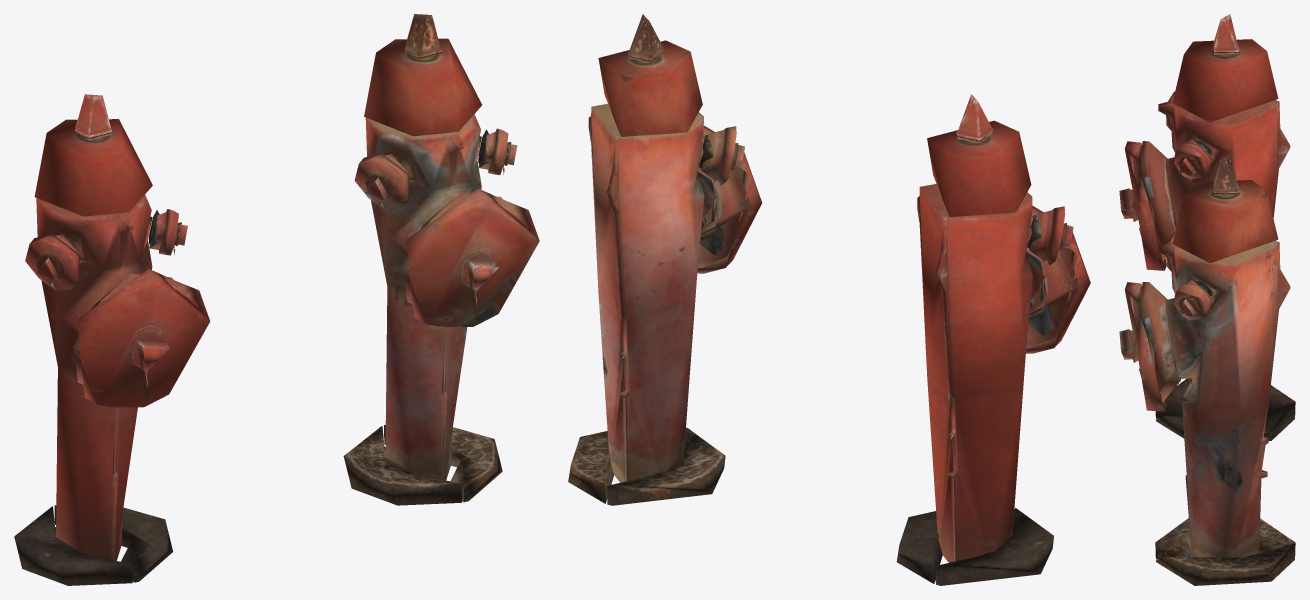
Rendered from fire_hydrant.gltf.
3 views of the same model, side by side, from view 1: azimuth 30°, elevation 25°; view 2: azimuth 150°, elevation 25°; view 3: azimuth 270°, elevation 25° (orthographic). The views are drawn at different scales.
Visible parts, largest first — view 1: fire_hydrant, fire_hydrant_aged, fire_hydrant_cap_01, fire_hydrant_cap_01_aged, fire_hydrant_cap_03, fire_hydrant_cap_03_aged, fire_hydrant_cap_02, fire_hydrant_cap_02_aged; view 2: fire_hydrant, fire_hydrant_aged, fire_hydrant_cap_01, fire_hydrant_cap_01_aged, fire_hydrant_cap_03_aged, fire_hydrant_cap_03; view 3: fire_hydrant_aged, fire_hydrant, fire_hydrant_cap_01_aged, fire_hydrant_cap_01, fire_hydrant_cap_02_aged, fire_hydrant_cap_02.
Boxes of the visible parts, bbox=[...] form: fire_hydrant: bbox=[14, 94, 173, 585]; fire_hydrant_aged: bbox=[343, 14, 502, 505]; fire_hydrant_cap_01: bbox=[77, 269, 210, 407]; fire_hydrant_cap_01_aged: bbox=[406, 188, 539, 326]; fire_hydrant_cap_03: bbox=[25, 234, 79, 290]; fire_hydrant_cap_03_aged: bbox=[354, 153, 409, 210]; fire_hydrant_cap_02: bbox=[159, 209, 187, 255]; fire_hydrant_cap_02_aged: bbox=[488, 128, 517, 174]; fire_hydrant: bbox=[896, 94, 1079, 585]; fire_hydrant_aged: bbox=[568, 14, 751, 505]; fire_hydrant_cap_01: bbox=[1026, 206, 1090, 353]; fire_hydrant_cap_01_aged: bbox=[697, 125, 761, 273]; fire_hydrant_cap_03_aged: bbox=[714, 126, 744, 185]; fire_hydrant_cap_03: bbox=[1042, 206, 1073, 265]; fire_hydrant_aged: bbox=[1141, 155, 1295, 585]; fire_hydrant: bbox=[1141, 14, 1295, 440]; fire_hydrant_cap_01_aged: bbox=[1119, 282, 1166, 411]; fire_hydrant_cap_01: bbox=[1119, 141, 1166, 270]; fire_hydrant_cap_02_aged: bbox=[1174, 283, 1211, 319]; fire_hydrant_cap_02: bbox=[1174, 142, 1211, 179].
Bounding box in the file's own units: 0.8729 × 0.7992 × 0.3173.
2 materials, 2 textured.
